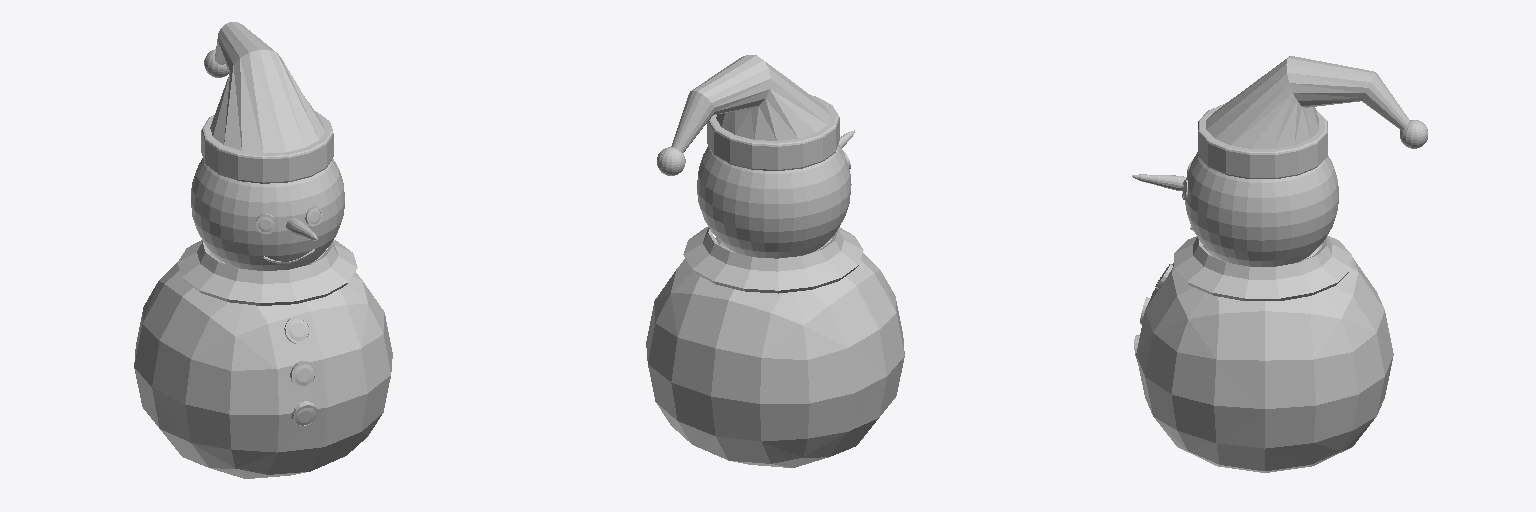
The model's file is SnowmanBodyV2.obj.
3 renders of one model, left to right at view 1: azimuth 30°, elevation 25°; view 2: azimuth 150°, elevation 25°; view 3: azimuth 270°, elevation 25°, orthographic.
Visible parts, largest first — view 1: Circle.002_Circle.001; view 2: Circle.002_Circle.001; view 3: Circle.002_Circle.001.
Part boxes in pixels (x1,y1,x2,y2): Circle.002_Circle.001: (134,22,392,478); Circle.002_Circle.001: (646,55,904,467); Circle.002_Circle.001: (1132,56,1427,472).
Size of the model in its own units: 1.68 by 2.9 by 1.94.